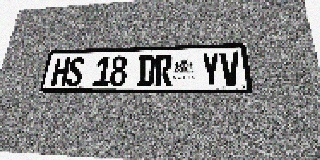1: (93, 56, 112, 86)
8: (109, 56, 128, 86)
D: (137, 55, 155, 86)
H: (51, 57, 71, 87)
R: (155, 54, 173, 86)
S: (66, 57, 85, 87)
V: (220, 52, 241, 86)
Y: (201, 53, 221, 86)
